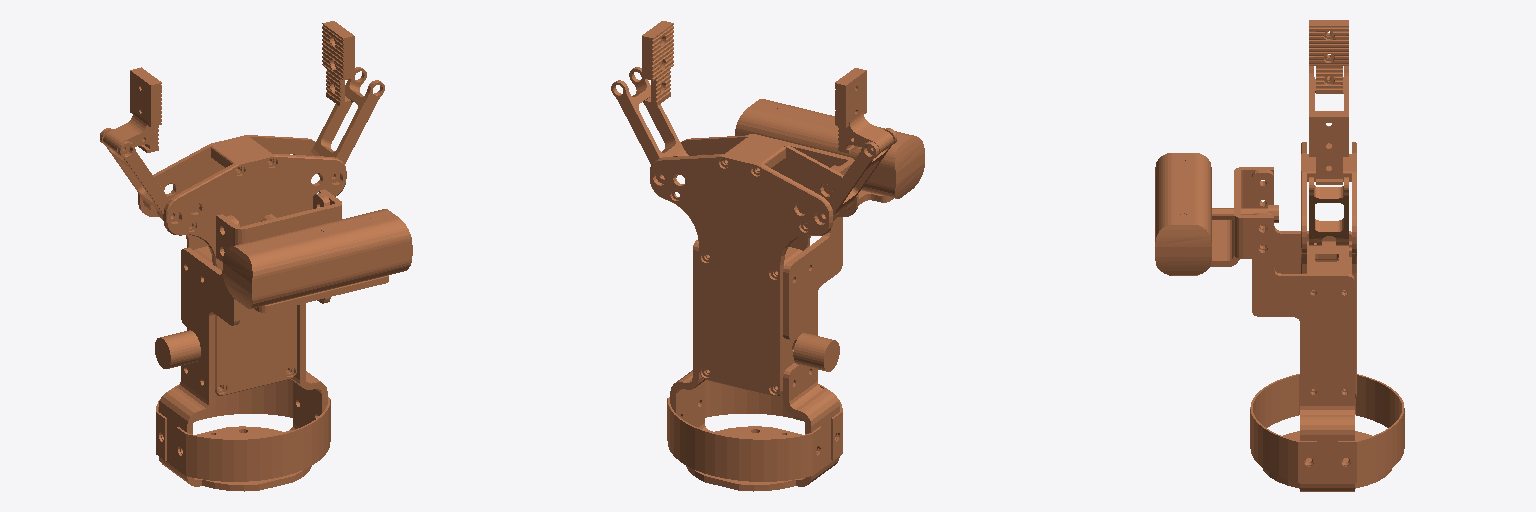
URDF robot description (hsr_eyeonhand_gripper):
<robot
  name="hsr_eyeonhand_gripper">
  <link
    name="grisper_base_link">
    <inertial>
      <origin
        xyz="-0.0315 0.00175 0.06"
        rpy="0 0 0" />
      <mass
        value="0.0023091" />
      <inertia
        ixx="0"
        ixy="0"
        ixz="0"
        iyy="0"
        iyz="0"
        izz="0" />
    </inertial>
    <visual>
      <origin
        xyz="0 0 0"
        rpy="0 0 0" />
      <geometry>
        <mesh
          filename="package://hsr_description/meshes/hsr_eyeonhand_gripper/grisper_base_link.STL" />
      </geometry>
      <material
        name="">
        <color
          rgba="0.75 0.5 0.35 1" />
      </material>
    </visual>
    <collision>
      <origin
        xyz="0 0 0"
        rpy="0 0 0" />
      <geometry>
        <mesh
          filename="package://hsr_description/meshes/hsr_eyeonhand_gripper/grisper_base_link.STL" />
      </geometry>
    </collision>
  </link>
  <link
    name="grisper_boby_link">
    <inertial>
      <origin
        xyz="2.8423E-05 -0.00087553 -0.009974"
        rpy="0 0 0" />
      <mass
        value="0.038796" />
      <inertia
        ixx="0"
        ixy="0"
        ixz="0"
        iyy="0"
        iyz="0"
        izz="0" />
    </inertial>
    <visual>
      <origin
        xyz="0 0 0"
        rpy="0 0 0" />
      <geometry>
        <mesh
          filename="package://hsr_description/meshes/hsr_eyeonhand_gripper/grisper_boby_link.STL" />
      </geometry>
      <material
        name="">
        <color
          rgba="0.75 0.5 0.35 1" />
      </material>
    </visual>
    <collision>
      <origin
        xyz="0 0 0"
        rpy="0 0 0" />
      <geometry>
        <mesh
          filename="package://hsr_description/meshes/hsr_eyeonhand_gripper/grisper_boby_link.STL" />
      </geometry>
    </collision>
  </link>
  <joint
    name="grisper_boby_joint"
    type="fixed">
    <origin
      xyz="0 -0.00924999999999997 0.0940000000000001"
      rpy="1.5707963267949 0 0" />
    <parent
      link="grisper_base_link" />
    <child
      link="grisper_boby_link" />
    <axis
      xyz="0 0 0" />
  </joint>
  <link
    name="right_finger_1_link">
    <inertial>
      <origin
        xyz="-2.9239E-06 0.016823 0.008979"
        rpy="0 0 0" />
      <mass
        value="0.0023503" />
      <inertia
        ixx="0"
        ixy="0"
        ixz="0"
        iyy="0"
        iyz="0"
        izz="0" />
    </inertial>
    <visual>
      <origin
        xyz="0 0 0"
        rpy="0 0 0" />
      <geometry>
        <mesh
          filename="package://hsr_description/meshes/hsr_eyeonhand_gripper/right_finger_1_link.STL" />
      </geometry>
      <material
        name="">
        <color
          rgba="0.75 0.5 0.35 1" />
      </material>
    </visual>
    <collision>
      <origin
        xyz="0 0 0"
        rpy="0 0 0" />
      <geometry>
        <mesh
          filename="package://hsr_description/meshes/hsr_eyeonhand_gripper/right_finger_1_link.STL" />
      </geometry>
    </collision>
  </link>
  <joint
    name="right_finger_1_joint"
    type="continuous">
    <origin
      xyz="0.0400000000000113 0.0359999999999958 -0.019"
      rpy="0 0 -0.5569168096935" />
    <parent
      link="grisper_boby_link" />
    <child
      link="right_finger_1_link" />
    <axis
      xyz="0 0 1" />
  </joint>
  <link
    name="right_finger_2_link">
    <inertial>
      <origin
        xyz="-0.0085798 0.0066139 0.006"
        rpy="0 0 0" />
      <mass
        value="0.0020017" />
      <inertia
        ixx="0"
        ixy="0"
        ixz="0"
        iyy="0"
        iyz="0"
        izz="0" />
    </inertial>
    <visual>
      <origin
        xyz="0 0 0"
        rpy="0 0 0" />
      <geometry>
        <mesh
          filename="package://hsr_description/meshes/hsr_eyeonhand_gripper/right_finger_2_link.STL" />
      </geometry>
      <material
        name="">
        <color
          rgba="0.75 0.5 0.35 1" />
      </material>
    </visual>
    <collision>
      <origin
        xyz="0 0 0"
        rpy="0 0 0" />
      <geometry>
        <mesh
          filename="package://hsr_description/meshes/hsr_eyeonhand_gripper/right_finger_2_link.STL" />
      </geometry>
    </collision>
  </link>
  <joint
    name="right_finger_2_joint"
    type="continuous">
    <origin
      xyz="0 0.0419999999999976 0.003"
      rpy="0 0 0.5569168096935" />
    <parent
      link="right_finger_1_link" />
    <child
      link="right_finger_2_link" />
    <axis
      xyz="0 0 1" />
  </joint>
  <link
    name="right_finger_end_link">
    <inertial>
      <origin
        xyz="-0.01811 0.009 0.00041937"
        rpy="0 0 0" />
      <mass
        value="0.0016908" />
      <inertia
        ixx="0"
        ixy="0"
        ixz="0"
        iyy="0"
        iyz="0"
        izz="0" />
    </inertial>
    <visual>
      <origin
        xyz="0 0 0"
        rpy="0 0 0" />
      <geometry>
        <mesh
          filename="package://hsr_description/meshes/hsr_eyeonhand_gripper/right_finger_end_link.STL" />
      </geometry>
      <material
        name="">
        <color
          rgba="0.75 0.5 0.35 1" />
      </material>
    </visual>
    <collision>
      <origin
        xyz="0 0 0"
        rpy="0 0 0" />
      <geometry>
        <mesh
          filename="package://hsr_description/meshes/hsr_eyeonhand_gripper/right_finger_end_link.STL" />
      </geometry>
    </collision>
  </link>
  <joint
    name="right_finger_end_joint"
    type="fixed">
    <origin
      xyz="-0.0145 -0.0035 -0.00299999999999999"
      rpy="1.5707963267949 0 -1.5707963267949" />
    <parent
      link="right_finger_2_link" />
    <child
      link="right_finger_end_link" />
    <axis
      xyz="0 0 0" />
  </joint>
  <link
    name="left_finger_1_link">
    <inertial>
      <origin
        xyz="-2.9239E-06 0.016823 0.008979"
        rpy="0 0 0" />
      <mass
        value="0.0023503" />
      <inertia
        ixx="0"
        ixy="0"
        ixz="0"
        iyy="0"
        iyz="0"
        izz="0" />
    </inertial>
    <visual>
      <origin
        xyz="0 0 0"
        rpy="0 0 0" />
      <geometry>
        <mesh
          filename="package://hsr_description/meshes/hsr_eyeonhand_gripper/left_finger_1_link.STL" />
      </geometry>
      <material
        name="">
        <color
          rgba="0.75 0.5 0.35 1" />
      </material>
    </visual>
    <collision>
      <origin
        xyz="0 0 0"
        rpy="0 0 0" />
      <geometry>
        <mesh
          filename="package://hsr_description/meshes/hsr_eyeonhand_gripper/left_finger_1_link.STL" />
      </geometry>
    </collision>
  </link>
  <joint
    name="left_finger_1_joint"
    type="continuous">
    <origin
      xyz="-0.0399999999999647 0.0360000000000326 -0.019"
      rpy="0 0 0.556916809692746" />
    <parent
      link="grisper_boby_link" />
    <child
      link="left_finger_1_link" />
    <axis
      xyz="0 0 -1" />
  </joint>
  <link
    name="left_finger_2_link">
    <inertial>
      <origin
        xyz="-0.0085798 0.0066139 0.006"
        rpy="0 0 0" />
      <mass
        value="0.0020017" />
      <inertia
        ixx="0"
        ixy="0"
        ixz="0"
        iyy="0"
        iyz="0"
        izz="0" />
    </inertial>
    <visual>
      <origin
        xyz="0 0 0"
        rpy="0 0 0" />
      <geometry>
        <mesh
          filename="package://hsr_description/meshes/hsr_eyeonhand_gripper/left_finger_2_link.STL" />
      </geometry>
      <material
        name="">
        <color
          rgba="0.75 0.5 0.35 1" />
      </material>
    </visual>
    <collision>
      <origin
        xyz="0 0 0"
        rpy="0 0 0" />
      <geometry>
        <mesh
          filename="package://hsr_description/meshes/hsr_eyeonhand_gripper/left_finger_2_link.STL" />
      </geometry>
    </collision>
  </link>
  <joint
    name="left_finger_2_joint"
    type="continuous">
    <origin
      xyz="0 0.041999999999991 0.015"
      rpy="3.14159265358979 0 2.58467584389705" />
    <parent
      link="left_finger_1_link" />
    <child
      link="left_finger_2_link" />
    <axis
      xyz="0 0 1" />
  </joint>
  <link
    name="left_finger_end_link">
    <inertial>
      <origin
        xyz="-0.01811 0.009 0.00041937"
        rpy="0 0 0" />
      <mass
        value="0.0016908" />
      <inertia
        ixx="0"
        ixy="0"
        ixz="0"
        iyy="0"
        iyz="0"
        izz="0" />
    </inertial>
    <visual>
      <origin
        xyz="0 0 0"
        rpy="0 0 0" />
      <geometry>
        <mesh
          filename="package://hsr_description/meshes/hsr_eyeonhand_gripper/left_finger_end_link.STL" />
      </geometry>
      <material
        name="">
        <color
          rgba="0.75 0.5 0.35 1" />
      </material>
    </visual>
    <collision>
      <origin
        xyz="0 0 0"
        rpy="0 0 0" />
      <geometry>
        <mesh
          filename="package://hsr_description/meshes/hsr_eyeonhand_gripper/left_finger_end_link.STL" />
      </geometry>
    </collision>
  </link>
  <joint
    name="left_finger_end_joint"
    type="fixed">
    <origin
      xyz="-0.0145 -0.0035 -0.00299999999999999"
      rpy="1.5707963267949 0 -1.5707963267949" />
    <parent
      link="left_finger_2_link" />
    <child
      link="left_finger_end_link" />
    <axis
      xyz="0 0 0" />
  </joint>
</robot>

--- Facts derived from the render (not from the file) ---
Views: 3 orthographic renders of the robot side by side, from view 1: azimuth 30°, elevation 25°; view 2: azimuth 150°, elevation 25°; view 3: azimuth 270°, elevation 25°.
Robot: hsr_eyeonhand_gripper — 8 links, 7 joints (4 continuous, 3 fixed); root link grisper_base_link; default pose: all joints at 0.
Visible links, largest first — view 1: grisper_base_link, grisper_boby_link, right_finger_1_link, right_finger_end_link, left_finger_1_link, left_finger_2_link, left_finger_end_link; view 2: grisper_base_link, grisper_boby_link, right_finger_1_link, right_finger_end_link, left_finger_1_link, left_finger_2_link, left_finger_end_link; view 3: grisper_base_link, grisper_boby_link, right_finger_end_link, left_finger_end_link, right_finger_1_link, left_finger_1_link.
Boxes of the visible links, box(x1,y1,x2,y2) form: grisper_base_link: box(155, 189, 412, 491); grisper_boby_link: box(138, 135, 346, 395); right_finger_1_link: box(307, 67, 384, 182); right_finger_end_link: box(322, 21, 354, 105); left_finger_1_link: box(100, 128, 179, 221); left_finger_2_link: box(103, 79, 152, 154); left_finger_end_link: box(130, 67, 161, 152); grisper_base_link: box(667, 99, 924, 491); grisper_boby_link: box(650, 135, 858, 396); right_finger_1_link: box(611, 67, 688, 183); right_finger_end_link: box(642, 21, 673, 106); left_finger_1_link: box(817, 128, 896, 222); left_finger_2_link: box(843, 80, 893, 154); left_finger_end_link: box(835, 68, 866, 153); grisper_base_link: box(1155, 153, 1404, 491); grisper_boby_link: box(1301, 142, 1356, 397); right_finger_end_link: box(1309, 111, 1348, 184); left_finger_end_link: box(1309, 20, 1348, 93); right_finger_1_link: box(1309, 177, 1348, 245); left_finger_1_link: box(1309, 66, 1348, 147).
Size in the robot's own frame: 0.1318 by 0.1111 by 0.1942 metres.
Meshes: 8 distinct files referenced, 7 mesh visuals loaded (7 binary STL); not drawn: 1 (reference not matched to a file when rendering).